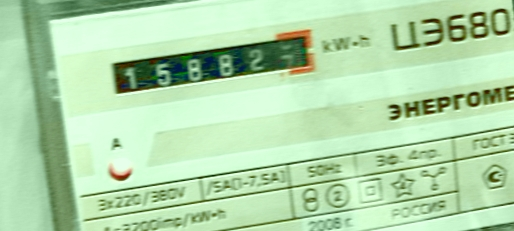1: (122, 68, 140, 95)
2: (247, 48, 266, 76)
5: (153, 64, 172, 91)
7: (279, 55, 295, 72)
8: (184, 60, 204, 86), (215, 54, 234, 81)
screen: (96, 24, 328, 113)
